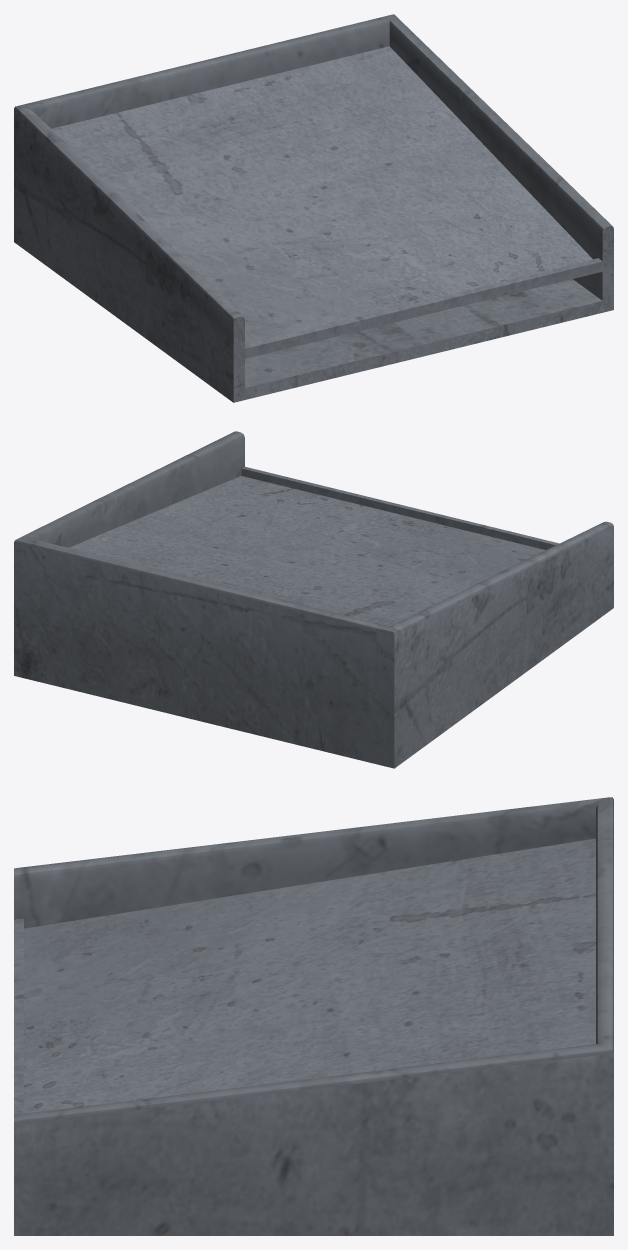
File: fileTray.fbx
The picture shows the model from 3 angles, top to bottom: view 1: azimuth 30°, elevation 25°; view 2: azimuth 150°, elevation 25°; view 3: azimuth 270°, elevation 25°; orthographic projection. The views are drawn at different scales.
Visible parts, largest first — view 1: fileTray; view 2: fileTray; view 3: fileTray.
Part boxes in pixels (x1=…): fileTray: x1=14, y1=14, x2=613, y2=402; fileTray: x1=14, y1=431, x2=613, y2=768; fileTray: x1=14, y1=797, x2=613, y2=1235.
Size of the model in its own units: 79.78 by 27.39 by 79.74.
